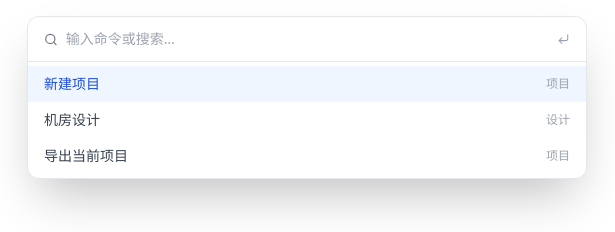
Test: CommandPalette 组件（A-1） › 按 category 搜索过滤
Type "项目" into the field with placeholder "输入命令或搜索…" at (307, 39), box [66, 29, 549, 49]
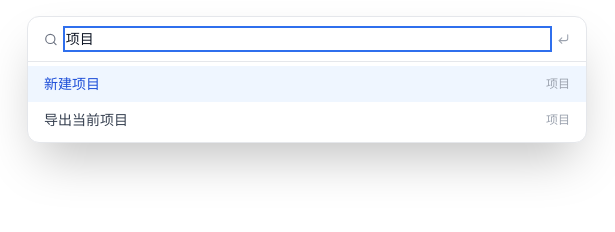
Check: the text "新建项目" is shown, box [44, 74, 100, 93]
Check: the button "机房设计" is gone
